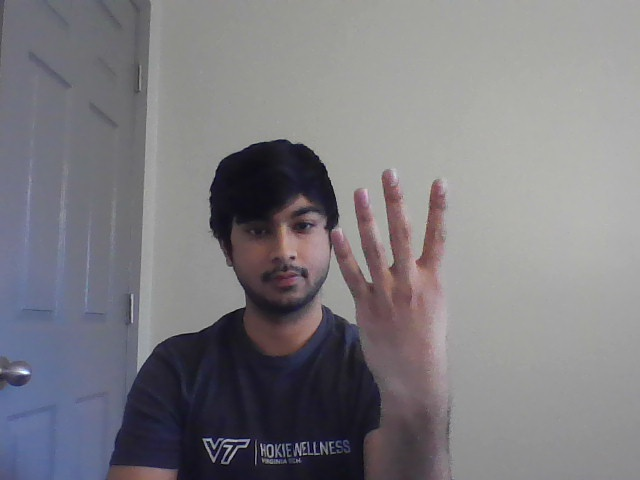four: (323, 164, 472, 346)
